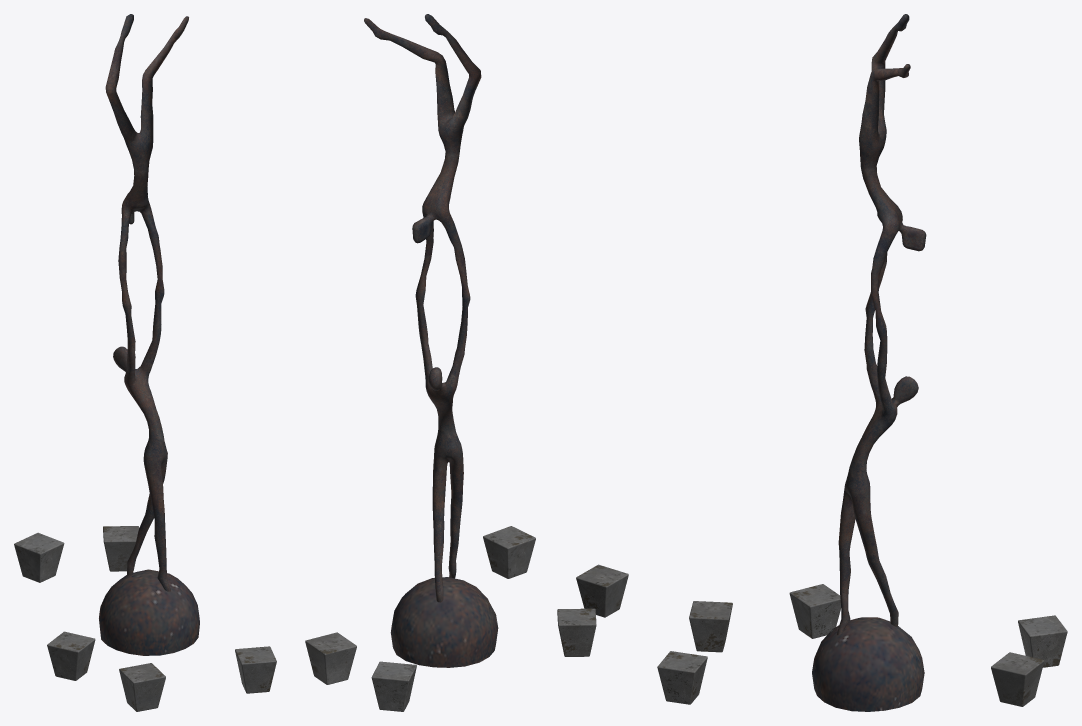
Rendered from statue.fbx.
3 renders of one model, left to right at view 1: azimuth 30°, elevation 25°; view 2: azimuth 150°, elevation 25°; view 3: azimuth 270°, elevation 25°, orthographic. The views are drawn at different scales.
Visible parts, largest first — view 1: statue; view 2: statue; view 3: statue.
Boxes of the visible parts, x1,y1,x2,y2 form: statue: (14,14,276,711); statue: (305,14,628,711); statue: (657,14,1067,711).
Bounding box in the file's own units: 401 × 1275 × 704.
